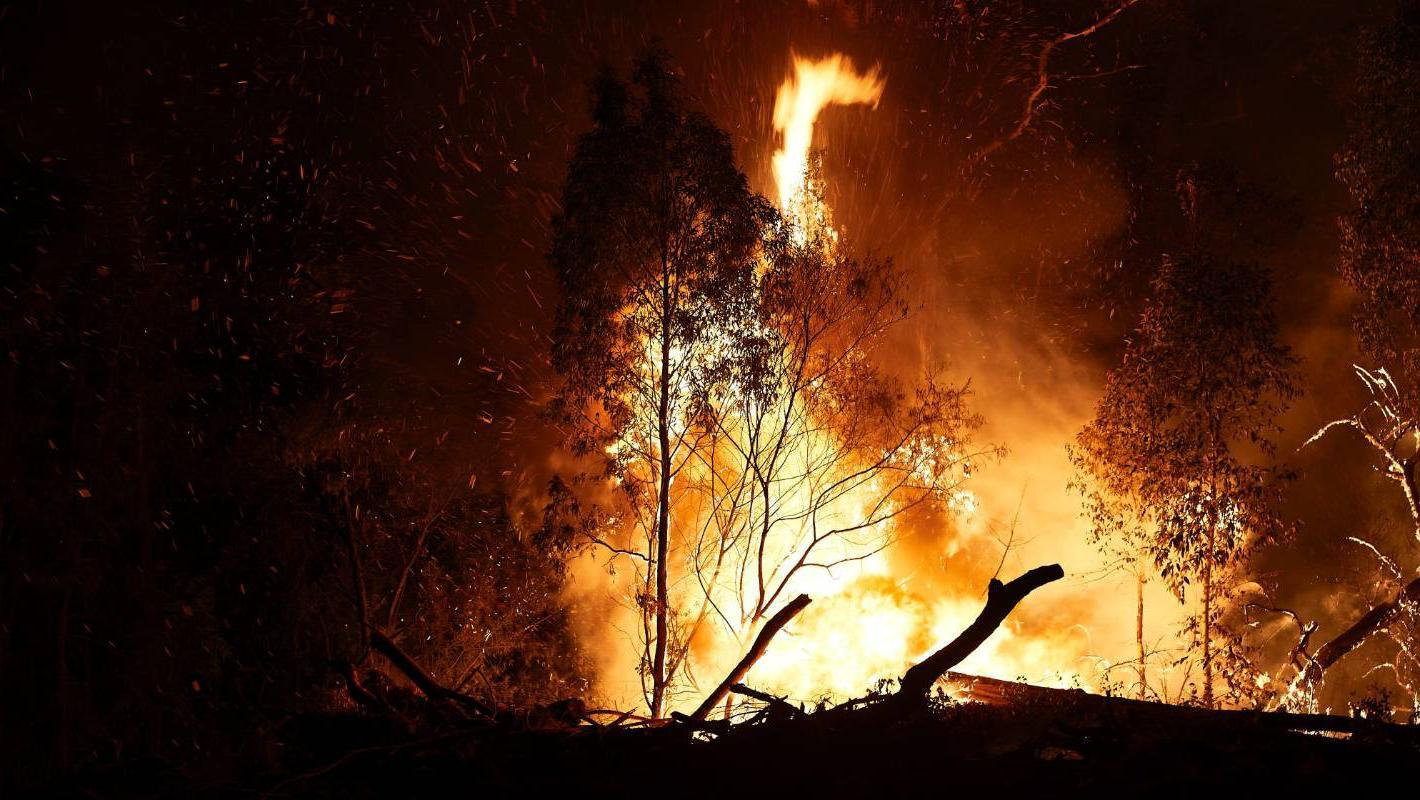Fire: (555, 393, 1244, 730), (770, 42, 900, 210)
